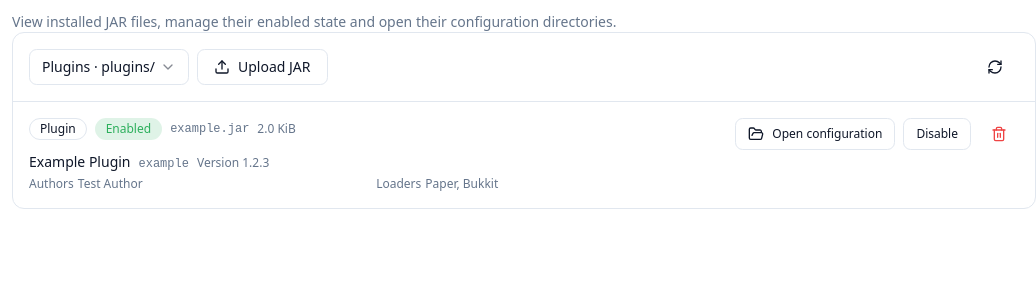
Test: installed extensions › keeps the file and enabled state when renaming would overwrite an existing file
The image size is (1036, 288).
Click the button "Disable" at (937, 134), box 903,118 -> 971,150
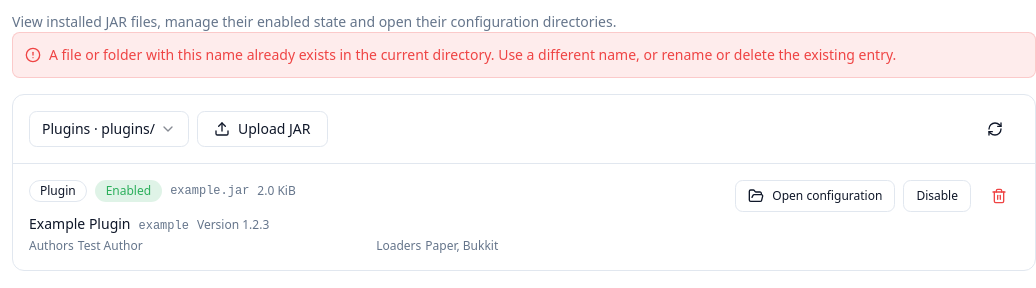
Expected: the text "Enabled" is shown, 95,180 -> 162,202
Now the text "A file or folder with this name already exists in the current directory. Use a different name, or rename or delete the e" is shown, box 49,45 -> 896,64
